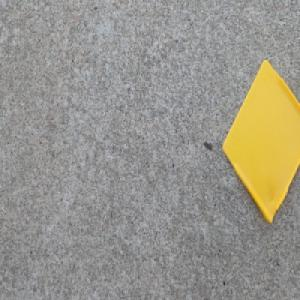PlasticPart: (222, 58, 300, 225)
